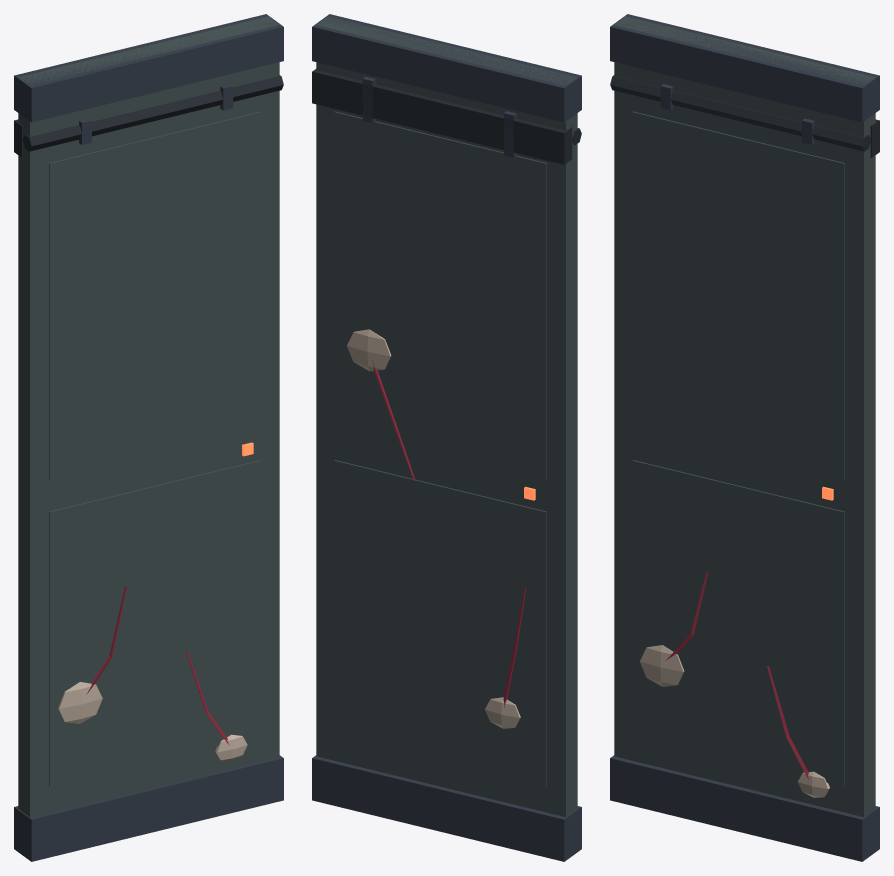
The model's file is Lab_WallPanel.fbx.
The picture shows the model from 3 angles, left to right: view 1: azimuth 30°, elevation 25°; view 2: azimuth 150°, elevation 25°; view 3: azimuth 330°, elevation 25°; orthographic projection.
Visible parts, largest first — view 1: Lab_WallPanel; view 2: Lab_WallPanel; view 3: Lab_WallPanel.
Boxes of the visible parts, x1,y1,x2,y2 form: Lab_WallPanel: (14, 14, 283, 861); Lab_WallPanel: (312, 14, 581, 861); Lab_WallPanel: (610, 14, 879, 861).
Size of the model in its own units: 1 by 2.93 by 0.12.
